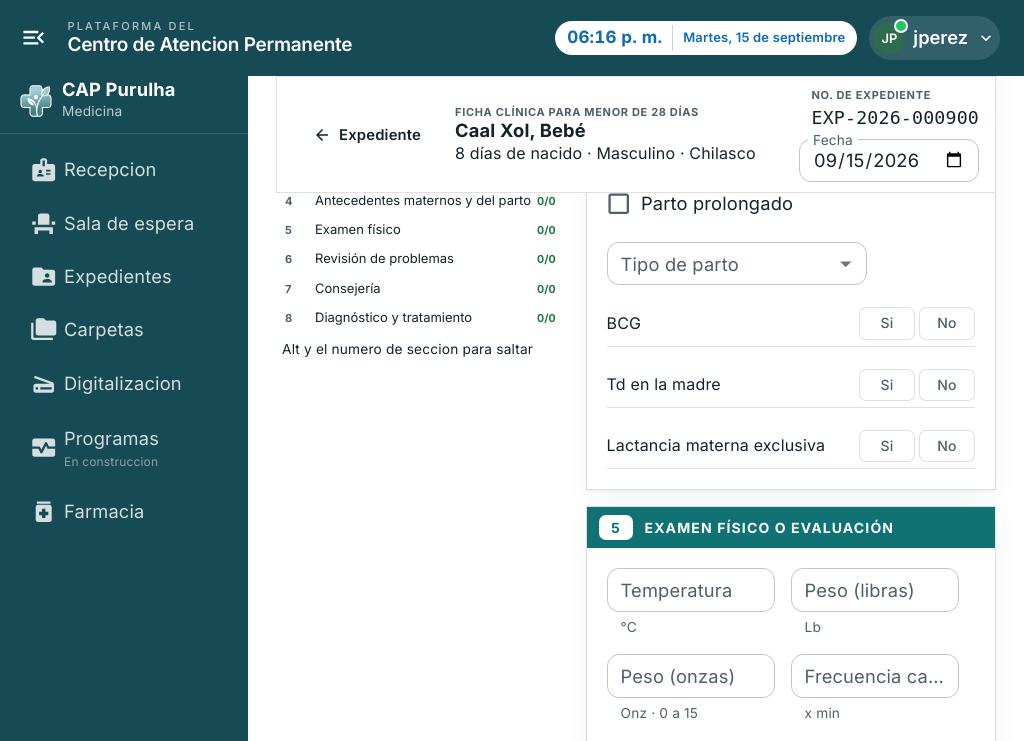
Test: la ficha en pantalla › el numero de dosis de Td solo aparece si la madre la recibio
(page scrolled)
Expected: the field labelled "N.º de dosis" is not shown
Click the radio button labelled "Si" next to "Td en la madre" at (887, 385), box [859,369,915,401]
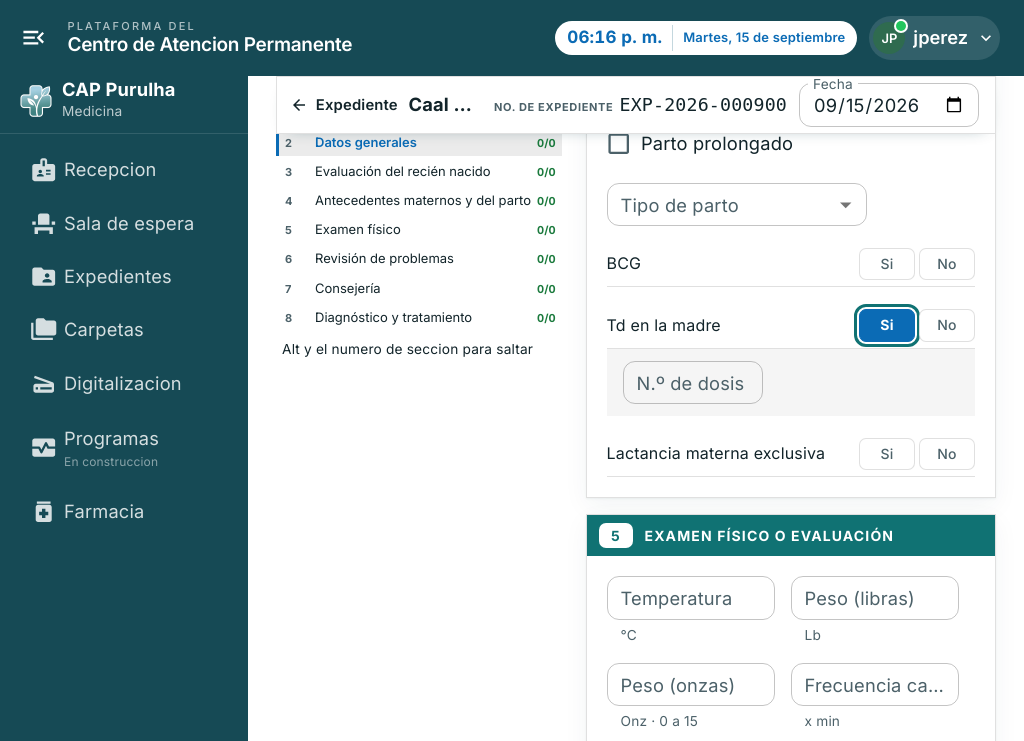
Now the number field labelled "N.º de dosis" is shown, box [622,361,762,404]
